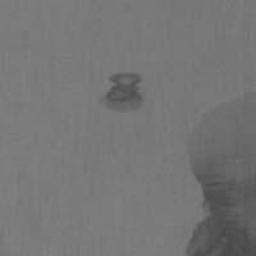Oil spot: (179, 81, 256, 256), (96, 70, 146, 115)
